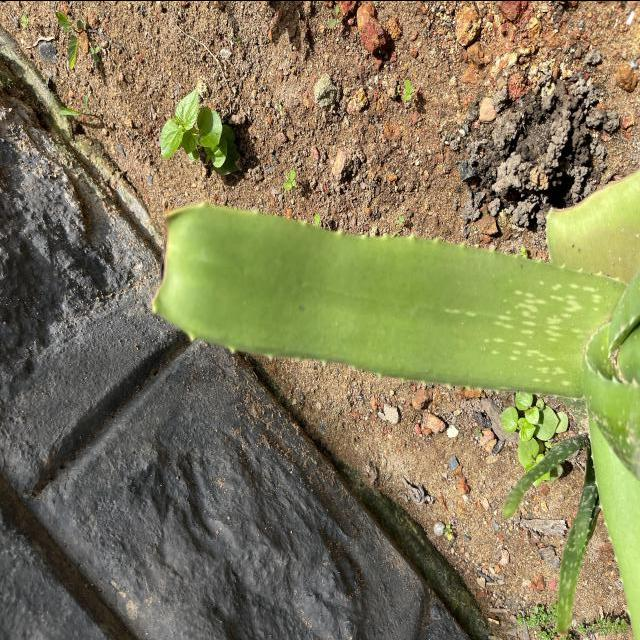Aloe vera: (159, 194, 616, 404)
